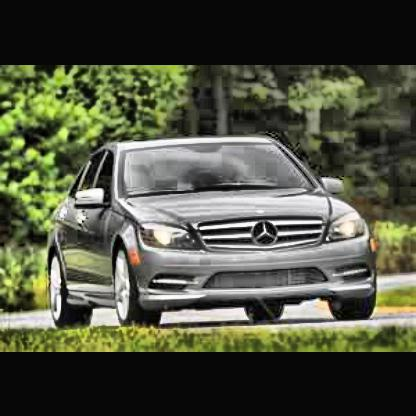Mercedes-Benz C-Class Sedan 2012: (49, 139, 377, 328)
